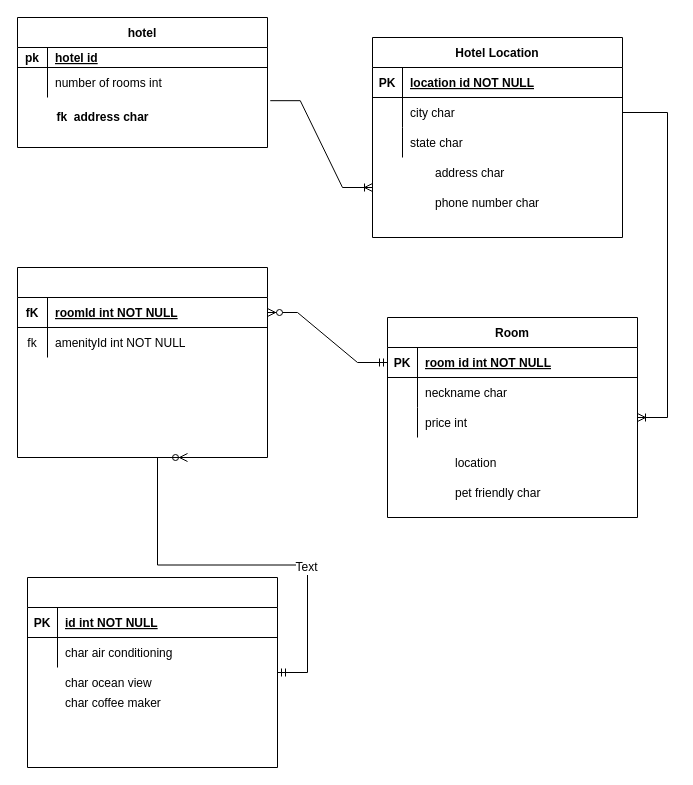
Image size: 693x785. Some labels were removed from this diagram. The box of each missing label's shape, as (x1, y1, x2, y2) in pixels:
amenities: (26, 576, 278, 768)
Room amenities: (16, 266, 268, 458)
